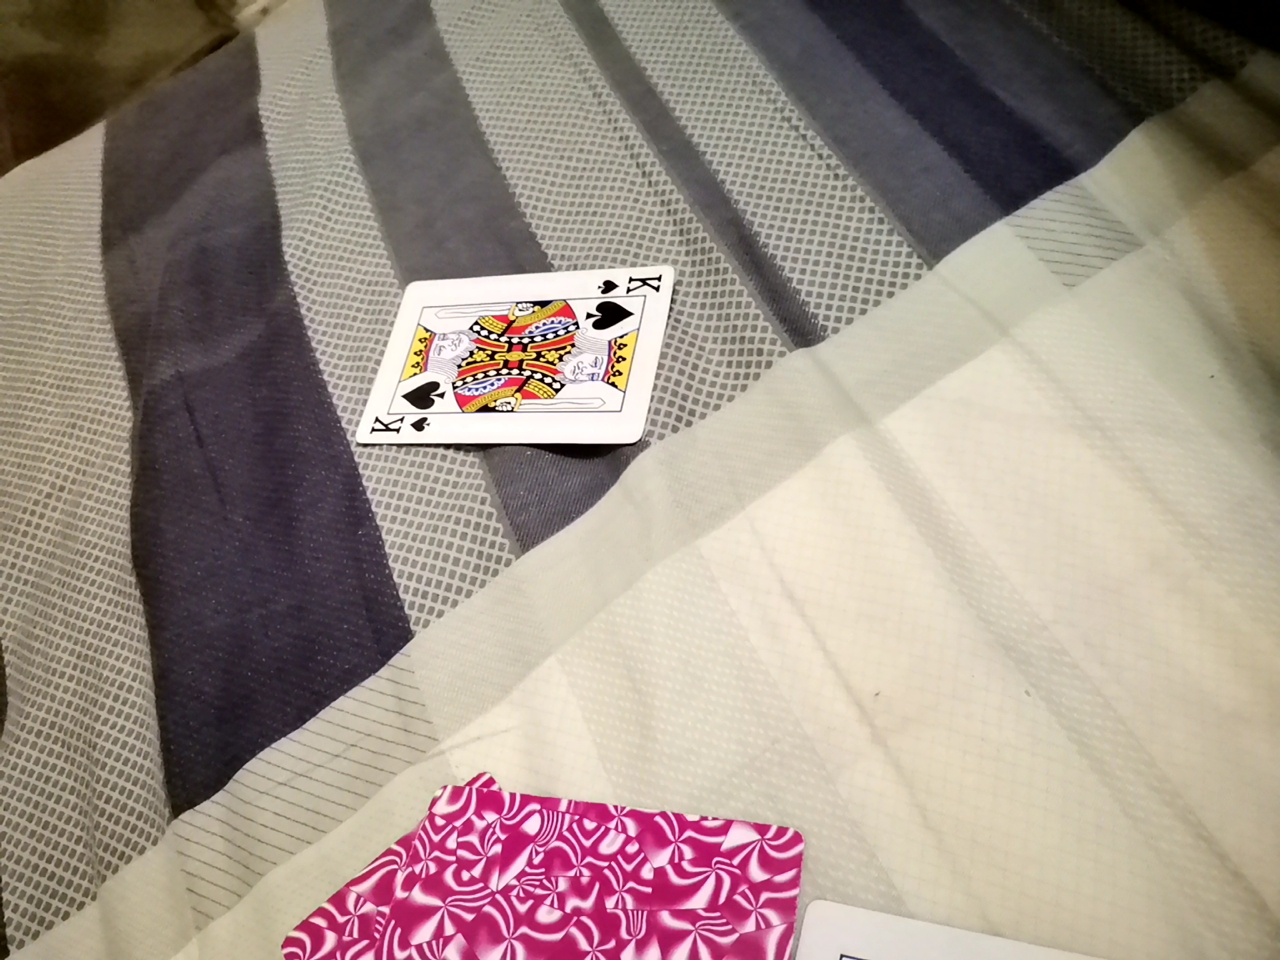ht k: (359, 251, 696, 483)
